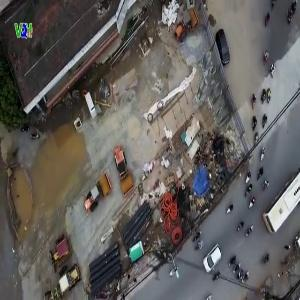drone: (123, 226, 198, 300)
